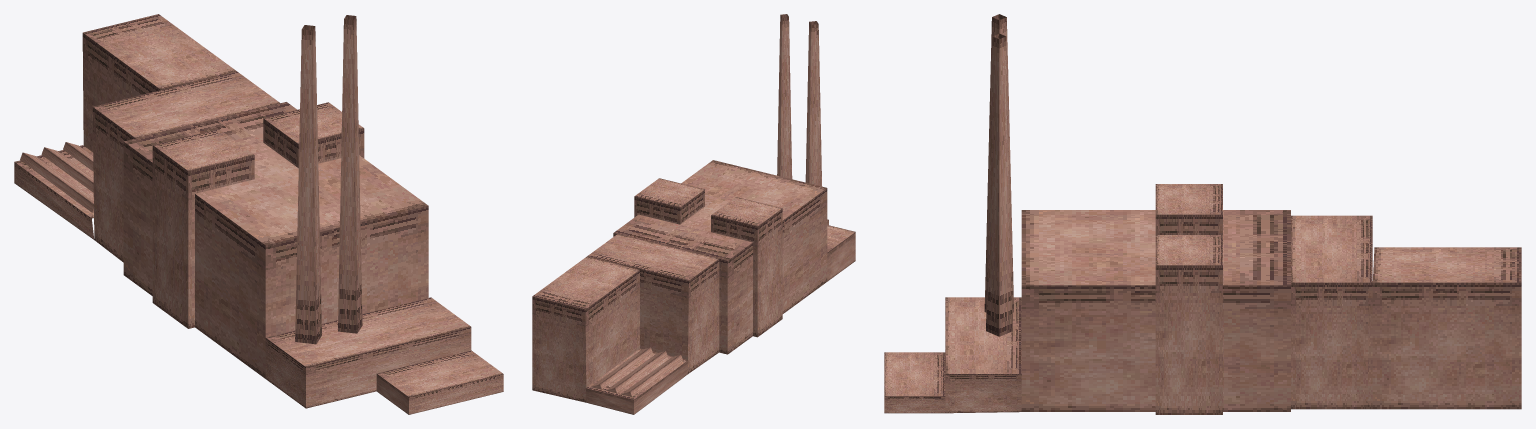
The model's file is lod_sfs080e.obj.
The picture shows the model from 3 angles, left to right: view 1: azimuth 30°, elevation 25°; view 2: azimuth 150°, elevation 25°; view 3: azimuth 270°, elevation 25°; orthographic projection. The views are drawn at different scales.
Parts seen in each view (by area): view 1: LOD_sfs080e; view 2: LOD_sfs080e; view 3: LOD_sfs080e.
Boxes of the visible parts, left/top/right/bottom form: LOD_sfs080e: left=14, top=14, right=503, bottom=414; LOD_sfs080e: left=532, top=14, right=855, bottom=414; LOD_sfs080e: left=884, top=14, right=1521, bottom=414.
Bounding box in the file's own units: 39.2 × 75.05 × 130.
Materials: 1 (1 with a texture image).
